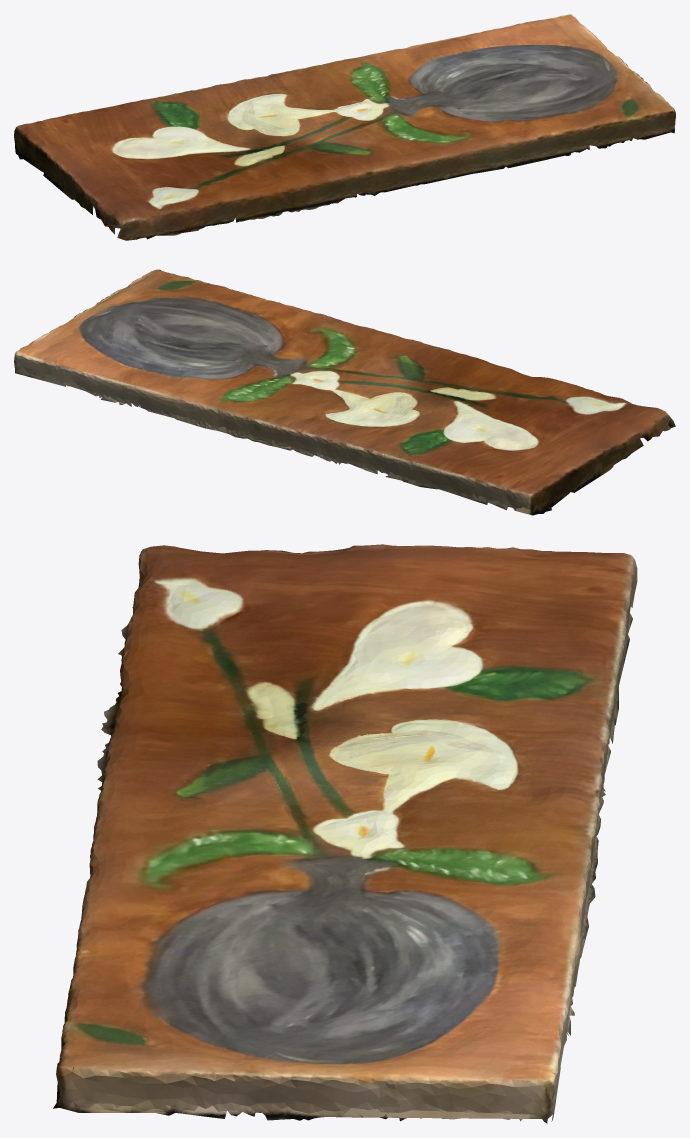
The model's file is quadro.gltf.
The picture shows the model from 3 angles, top to bottom: view 1: azimuth 30°, elevation 25°; view 2: azimuth 150°, elevation 25°; view 3: azimuth 270°, elevation 25°; orthographic projection. The views are drawn at different scales.
Visible parts, largest first — view 1: model_Quadro_yannick_20250207_224237429; view 2: model_Quadro_yannick_20250207_224237429; view 3: model_Quadro_yannick_20250207_224237429.
Boxes of the visible parts, x1,y1,x2,y2 form: model_Quadro_yannick_20250207_224237429: (14, 14, 675, 240); model_Quadro_yannick_20250207_224237429: (14, 269, 675, 515); model_Quadro_yannick_20250207_224237429: (53, 544, 637, 1123).
Size of the model in its own units: 1.32 by 0.0691 by 0.6004.
1 material, 1 textured.
